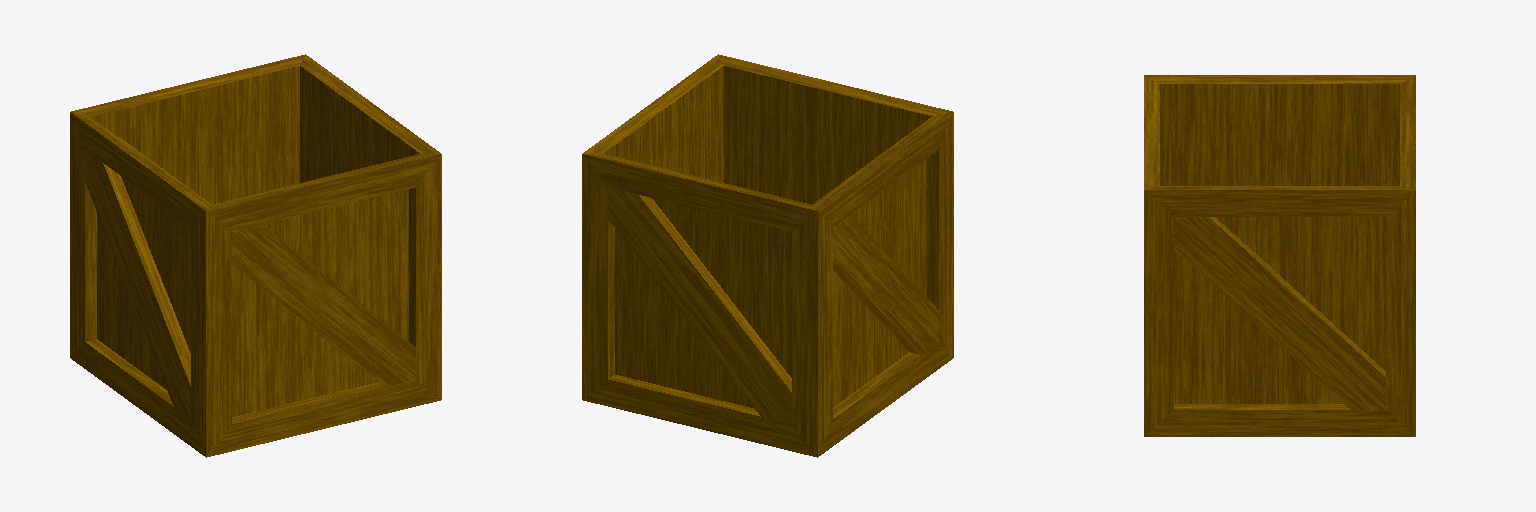
3 renders of one model, left to right at view 1: azimuth 30°, elevation 25°; view 2: azimuth 150°, elevation 25°; view 3: azimuth 270°, elevation 25°, orthographic.
Parts seen in each view (by area): view 1: OpenCrate_Wood_0; view 2: OpenCrate_Wood_0; view 3: OpenCrate_Wood_0.
Part boxes in pixels (bbox=[...]): OpenCrate_Wood_0: bbox=[70, 54, 441, 457]; OpenCrate_Wood_0: bbox=[582, 54, 953, 457]; OpenCrate_Wood_0: bbox=[1144, 75, 1415, 436].
Bounding box in the file's own units: 0.834 × 0.834 × 0.834.
1 materials, 1 textured.